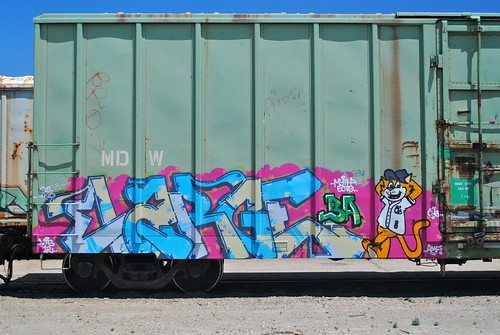graffiti: (44, 152, 426, 266)
train: (1, 9, 500, 295)
